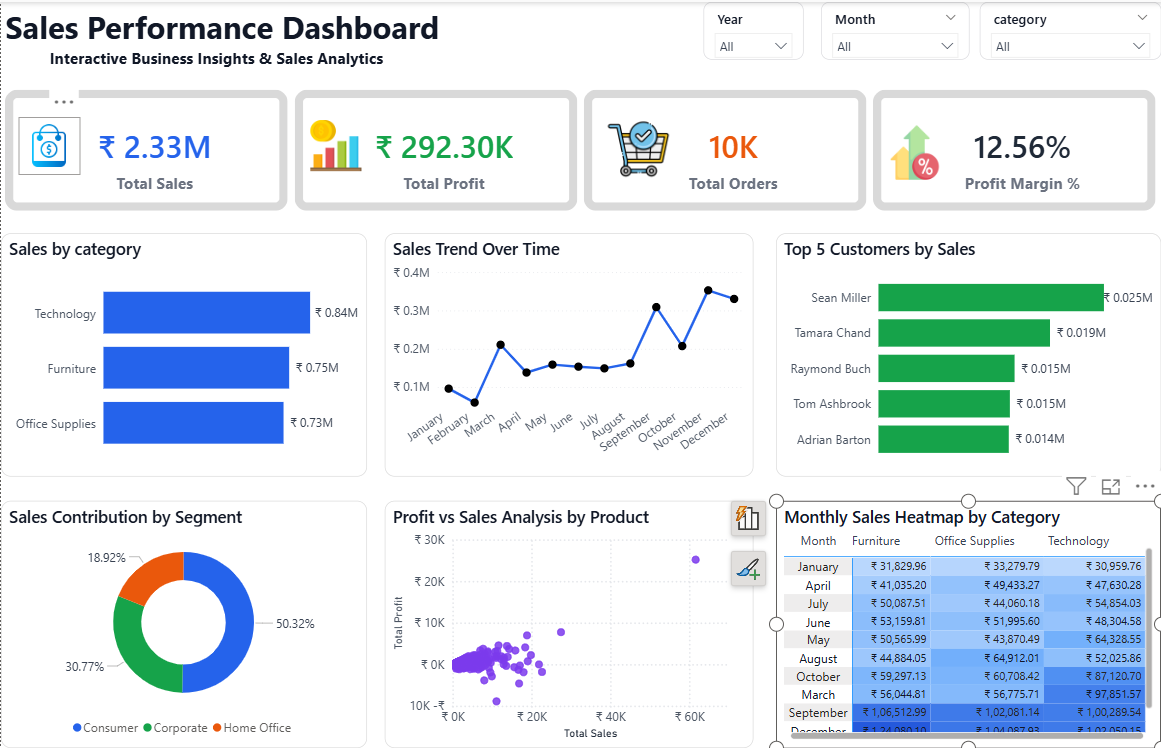

This screenshot's page, from the dashboard's own definition file:
{"tool":"powerbi","page":{"name":"Executive Dashboard","canvas":[1400,900],"ordinal":0},"visuals":[{"type":"cardVisual","fields":{"Data":["fact_sales.Total Sales","fact_sales.Total Profit","fact_sales.Total Orders","fact_sales.Profit Margin %"]},"box":[0,101,1399.5,156.8],"z":0},{"type":"clusteredBarChart","fields":{"Category":["dim_product.category"],"Y":["fact_sales.Total Sales"]},"box":[0,606.2,441.9,294.1],"z":1000},{"type":"lineChart","title":"Sales Trend Over Time","fields":{"Category":["dim_date.order_date.Variation.Date Hierarchy.Year","dim_date.order_date.Variation.Date Hierarchy.Quarter","dim_date.order_date.Variation.Date Hierarchy.Month","dim_date.order_date.Variation.Date Hierarchy.Day"],"Y":["fact_sales.Total Sales"]},"box":[0,280.5,444.9,294.1],"z":2000},{"type":"clusteredBarChart","title":"Top 5 Customers by Sales","fields":{"Category":["dim_customer.customer_name"],"Y":["fact_sales.Total Sales"]},"box":[934.9,279.4,465.1,293.7],"z":3000},{"type":"scatterChart","title":"Profit vs Sales Analysis by Product","fields":{"X":["fact_sales.Total Sales"],"Y":["fact_sales.Total Profit"],"Category":["dim_product.product_name"]},"box":[463.5,601.6,444.4,298.4],"z":4000},{"type":"pivotTable","title":"Monthly Sales Heatmap by Category","fields":{"Columns":["dim_product.category"],"Values":["fact_sales.Total Sales"],"Rows":["dim_date.order_date.Variation.Date Hierarchy.Month"]},"box":[935,601.7,464.5,298.6],"z":5000},{"type":"textbox","box":[0,0,568.5,90.5],"z":6000},{"type":"slicer","fields":{"Values":["dim_date.year"]},"box":[707,0,121.5,69.4],"z":7000},{"type":"slicer","fields":{"Values":["dim_date.order_date.Variation.Date Hierarchy.Month"]},"box":[847.4,0,178.3,69.4],"z":8000},{"type":"slicer","fields":{"Values":["dim_product.category"]},"box":[1047.8,0,184.6,69.4],"z":9000},{"type":"gauge","title":"Sales Target Achievement","fields":{"Y":["All Measures.Total Sales"],"TargetValue":["All Measures.Sales Target"],"MaxValue":["All Measures.Max Gauge Value"]},"box":[467.1,279.3,441.8,293.5],"z":10000},{"type":"image","box":[21.1,138.7,73.9,69.4],"z":11000},{"type":"image","box":[366.5,135.7,75.4,75.4],"z":12000},{"type":"image","box":[725.4,135.7,87.5,84.5],"z":13000},{"type":"image","box":[1064.7,143.3,75.4,76.9],"z":14000},{"type":"card","fields":{"Values":["All Measures.Dashboard Title"]},"box":[0,0,552.3,45.8],"z":15000},{"type":"actionButton","box":[384.6,606.2,57.3,42.2],"z":16000},{"type":"actionButton","box":[1342.2,279,57.3,42.2],"z":17000},{"type":"actionButton","box":[1243.5,0,156.2,69.4],"z":18000}]}

Visuals, with their boxes in screenshot pixels (x1, y1, x2, y2), scaled from the page's 1400x900 canvas onto the 1161x748 screenshot:
cardVisual - fact_sales.Total Sales x fact_sales.Total Profit: [left=0, top=84, right=1160, bottom=214]
clusteredBarChart - dim_product.category x fact_sales.Total Sales: [left=0, top=504, right=366, bottom=747]
"Sales Trend Over Time" lineChart: [left=0, top=233, right=369, bottom=478]
"Top 5 Customers by Sales" clusteredBarChart: [left=775, top=232, right=1160, bottom=476]
"Profit vs Sales Analysis by Product" scatterChart: [left=384, top=500, right=753, bottom=747]
"Monthly Sales Heatmap by Category" pivotTable: [left=775, top=500, right=1160, bottom=747]
textbox: [left=0, top=0, right=471, bottom=75]
slicer - dim_date.year: [left=586, top=0, right=687, bottom=58]
slicer - dim_date.order_date.Variation.Date Hierarchy.Month: [left=703, top=0, right=851, bottom=58]
slicer - dim_product.category: [left=869, top=0, right=1022, bottom=58]
"Sales Target Achievement" gauge: [left=387, top=232, right=754, bottom=476]
image: [left=17, top=115, right=79, bottom=173]
image: [left=304, top=113, right=366, bottom=175]
image: [left=602, top=113, right=674, bottom=183]
image: [left=883, top=119, right=945, bottom=183]
card - All Measures.Dashboard Title: [left=0, top=0, right=458, bottom=38]
actionButton: [left=319, top=504, right=366, bottom=539]
actionButton: [left=1113, top=232, right=1160, bottom=267]
actionButton: [left=1031, top=0, right=1160, bottom=58]
